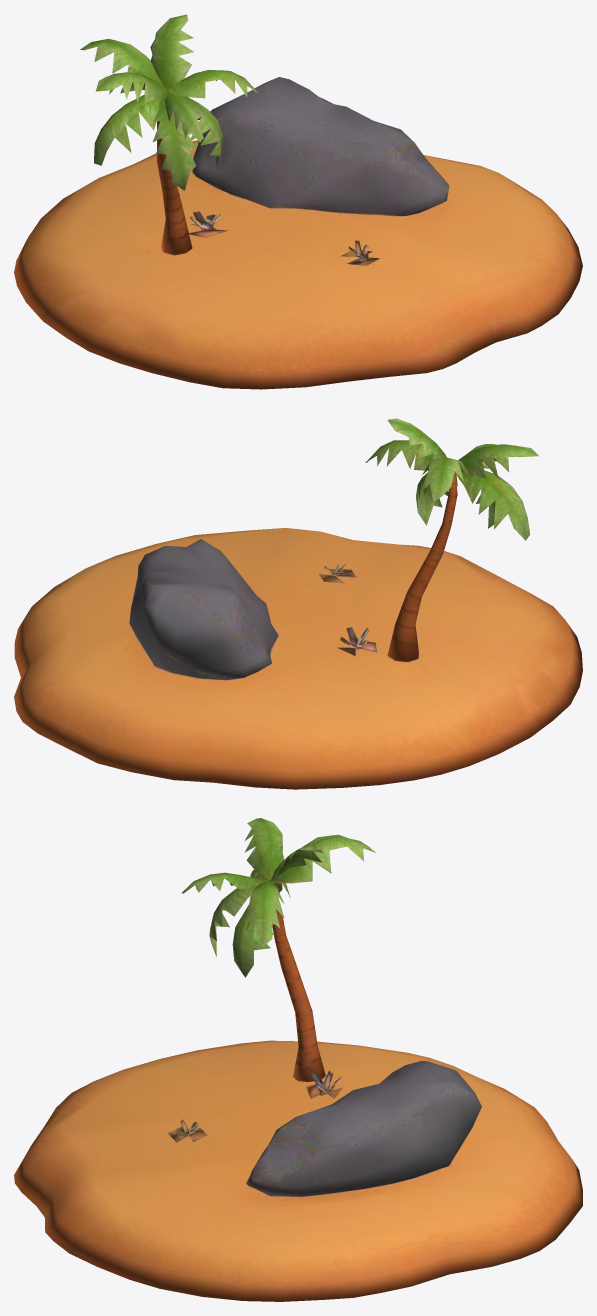
The model's file is palm-islet.glb.
The picture shows the model from 3 angles, top to bottom: view 1: azimuth 30°, elevation 25°; view 2: azimuth 150°, elevation 25°; view 3: azimuth 270°, elevation 25°; orthographic projection. The views are drawn at different scales.
Bounding box in the file's own units: 0.958 × 0.5142 × 0.9439.
Materials: 1 (1 with a texture image).
